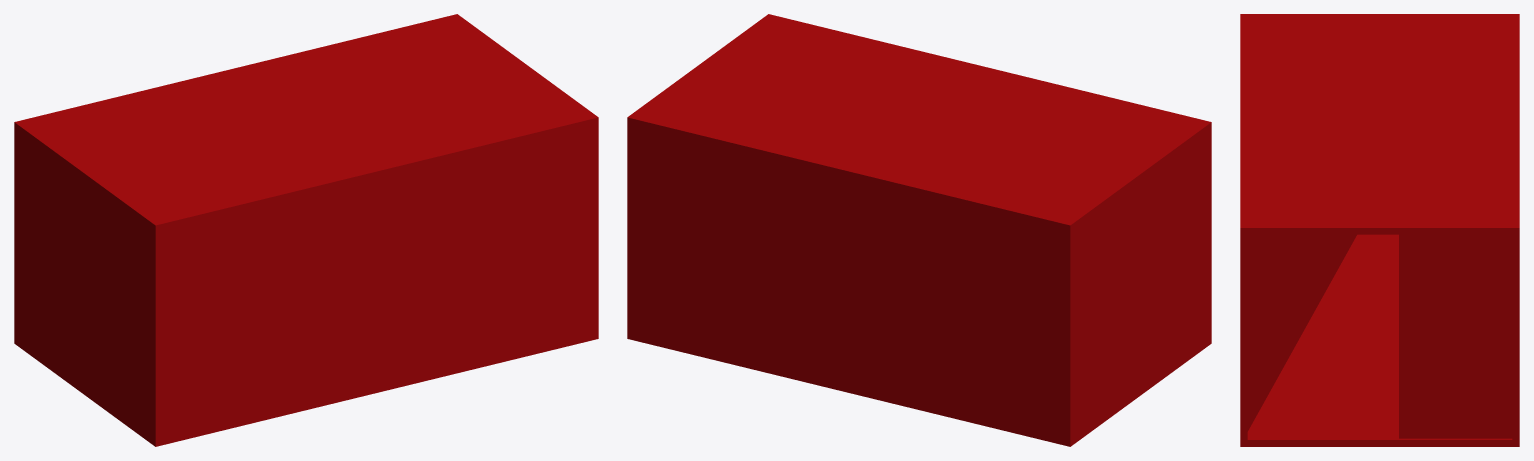
The model's file is lattice-room.dae.
The picture shows the model from 3 angles, left to right: view 1: azimuth 30°, elevation 25°; view 2: azimuth 150°, elevation 25°; view 3: azimuth 270°, elevation 25°; orthographic projection.
Visible parts, largest first — view 1: instance_0; view 2: instance_0; view 3: instance_0.
Boxes of the visible parts, x1,y1,x2,y2 form: instance_0: (14, 14, 598, 446); instance_0: (627, 14, 1211, 446); instance_0: (1240, 14, 1519, 446).
Bounding box in the file's own units: 6.7 × 3.7 × 3.2.
